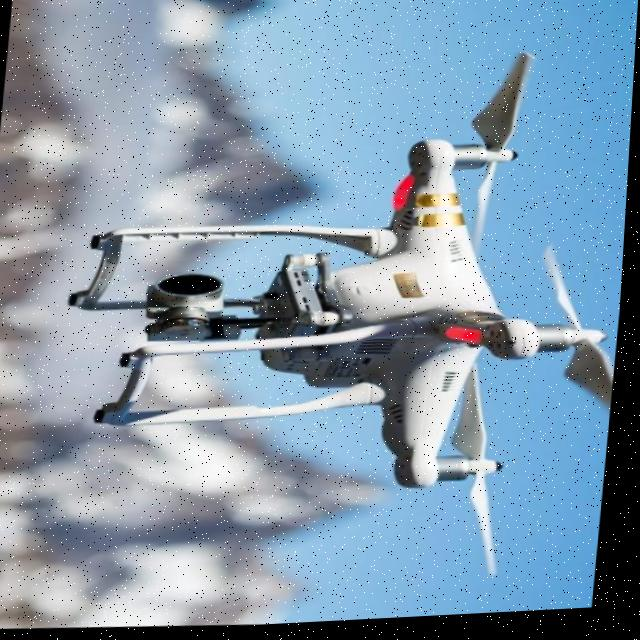drones: (36, 0, 639, 615)
